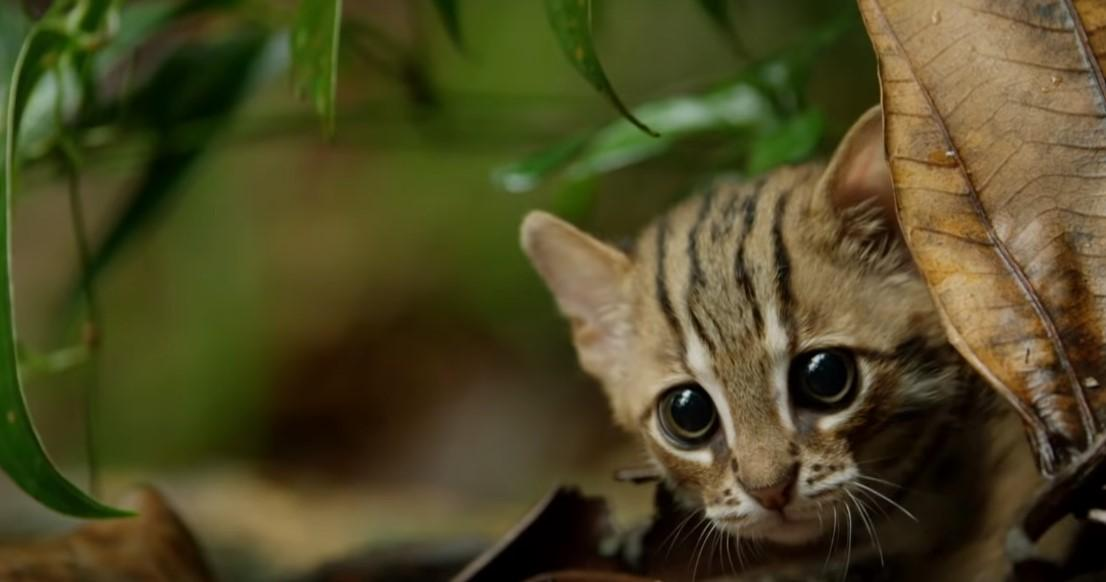cat: (467, 102, 1051, 565)
